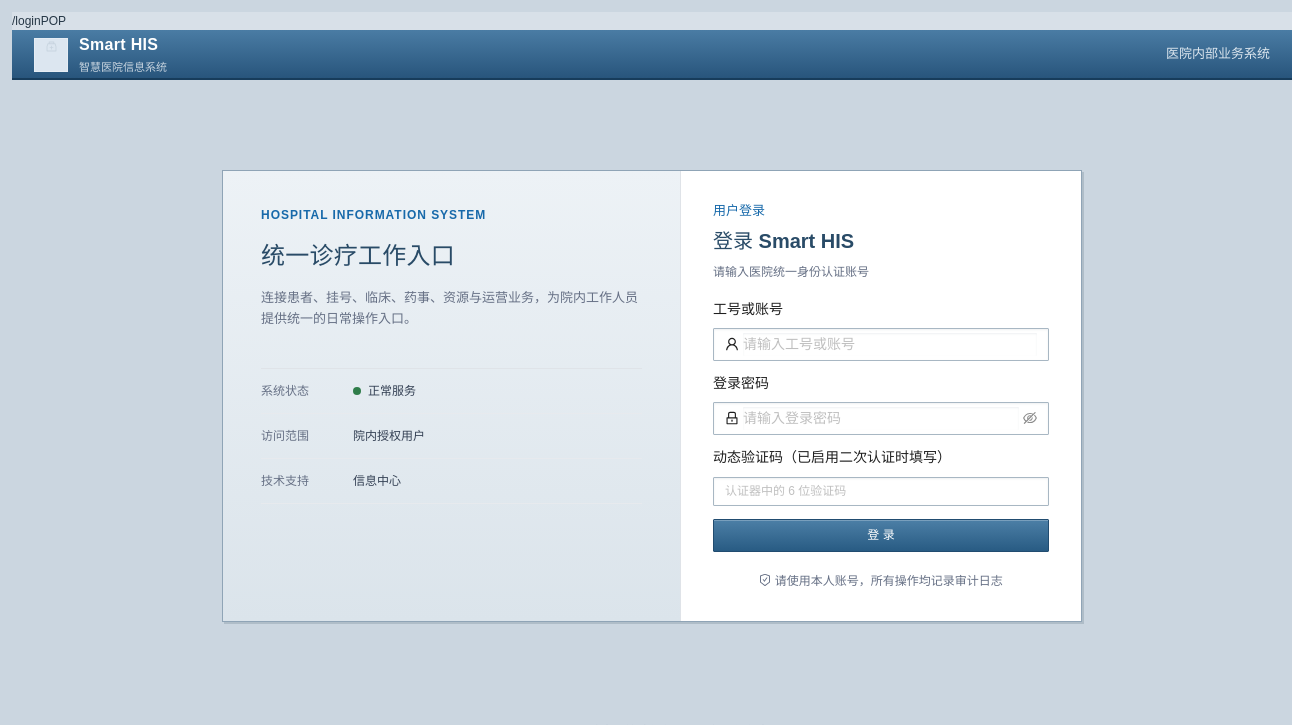
Scenario: LoginPage › validates missing the account without attempting login
Type "test-password" into the password field labelled "登录密码". click: {"x": 881, "y": 418}
box: left=743, top=407, right=1019, bottom=430
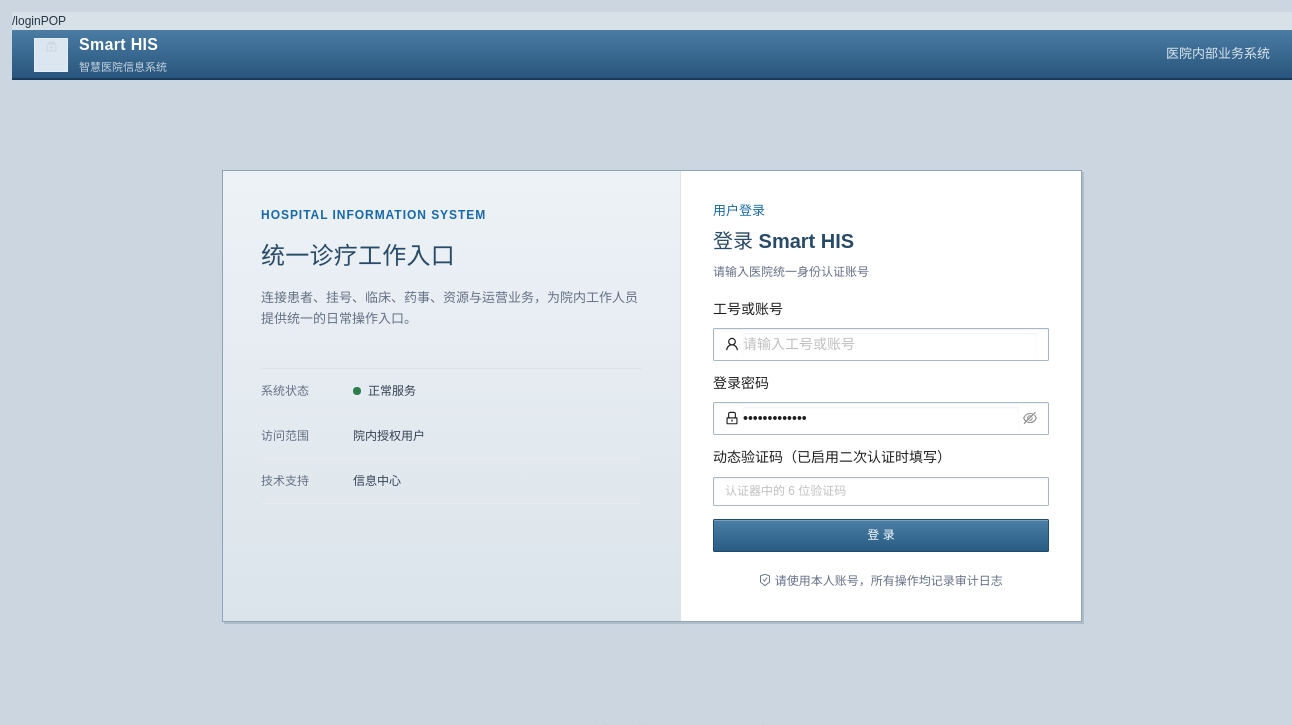
Click the button "登 录". click: {"x": 881, "y": 535}
box: left=713, top=519, right=1049, bottom=552
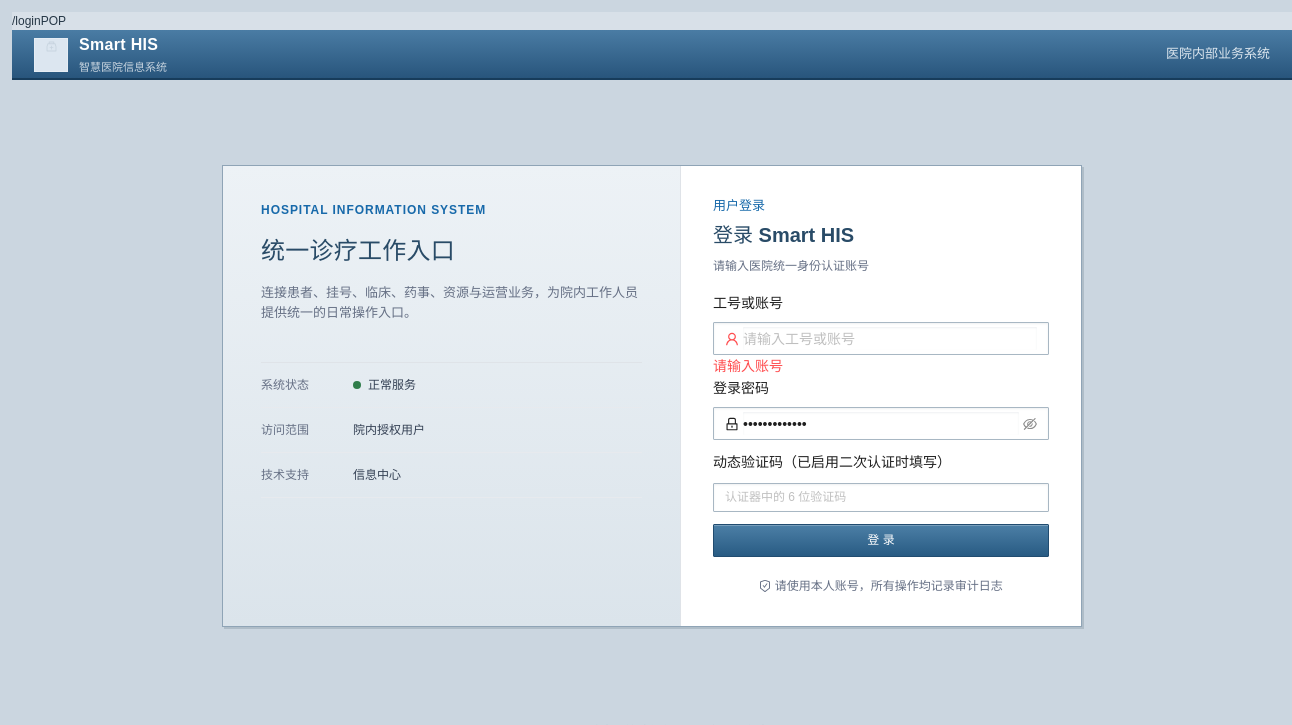
Expected: the text named "当前路径" reads "/login", left=12, top=14, right=41, bottom=28
Now the text "请输入账号" is shown, box left=713, top=357, right=783, bottom=374
